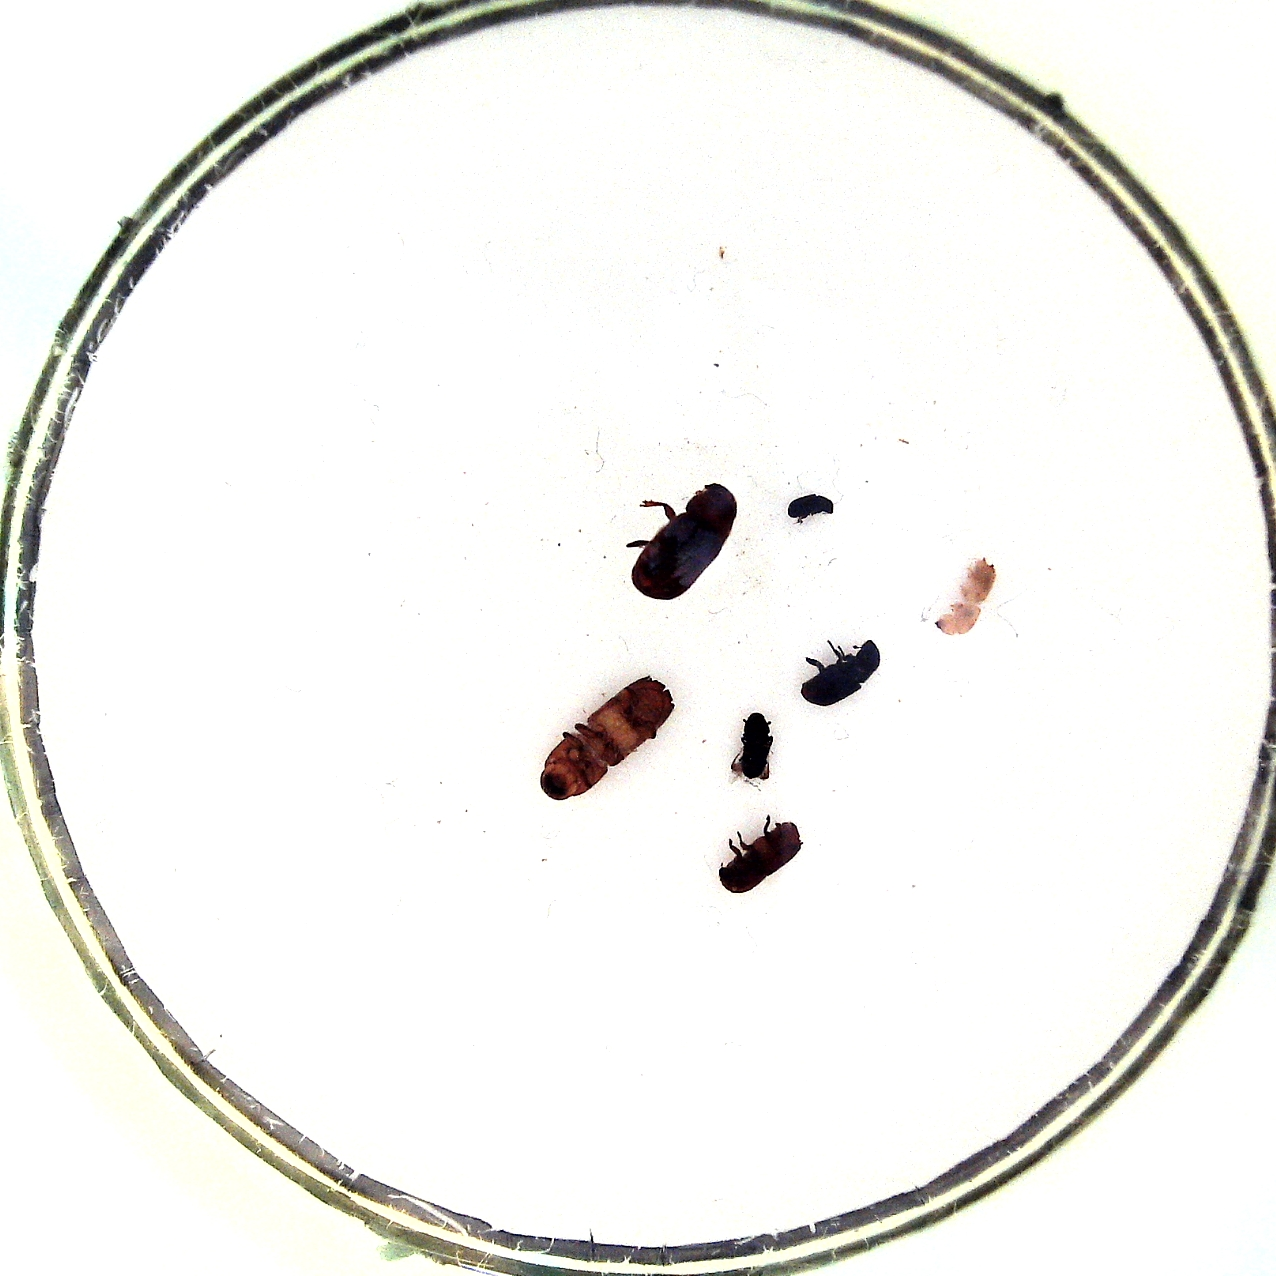Boerner: (530, 670, 681, 803)
Leconte: (620, 470, 747, 602)
Linnaeus: (716, 810, 806, 897)
acuminatus: (931, 547, 1004, 644)
armandi: (790, 633, 883, 710)
coleoptera: (727, 710, 783, 790), (783, 487, 839, 525)
